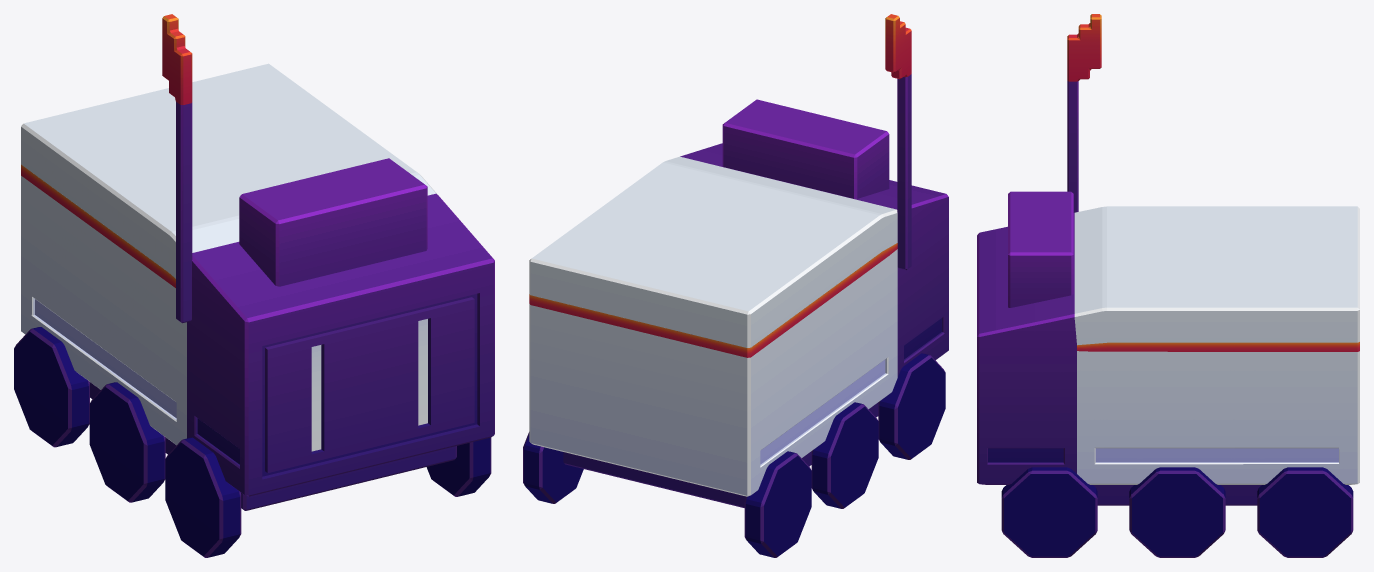
File: Rover_bsdf.fbx
3 views of the same model, side by side, from view 1: azimuth 30°, elevation 25°; view 2: azimuth 150°, elevation 25°; view 3: azimuth 270°, elevation 25° (orthographic). The views are drawn at different scales.
Parts seen in each view (by area): view 1: RoverBody, Lid, SensorBox, Wheel.004, Wheel.002, Wheel, Flag, Wheel.005; view 2: RoverBody, Lid, SensorBox, Wheel, Wheel.004, Wheel.002, Flag, Wheel.001; view 3: RoverBody, Lid, Wheel.001, Wheel.003, Wheel.005, SensorBox, Flag.
Part boxes in pixels (x1,y1,x2,y2): RoverBody: (21,164,494,510); Lid: (21,63,438,278); SensorBox: (239,158,427,286); Wheel.004: (165,437,241,557); Wheel.002: (89,382,165,502); Wheel: (14,327,89,447); Flag: (162,14,192,323); Wheel.005: (426,437,491,496); RoverBody: (529,143,948,507); Lid: (529,156,897,347); SensorBox: (722,99,889,198); Wheel: (744,451,811,557); Wheel.004: (878,353,945,459); Wheel.002: (811,402,878,508); Flag: (885,14,911,269); Wheel.001: (523,432,583,503); RoverBody: (977,213,1359,505); Lid: (1074,206,1359,345); Wheel.001: (1257,467,1353,557); Wheel.003: (1129,467,1225,557); Wheel.005: (1001,467,1097,557); SensorBox: (1008,191,1073,307); Flag: (1067,14,1101,212).
Bounding box in the file's own units: 218 × 392 × 314.
1 material, 1 textured.
